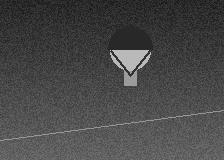helmet: (108, 26, 152, 75)
